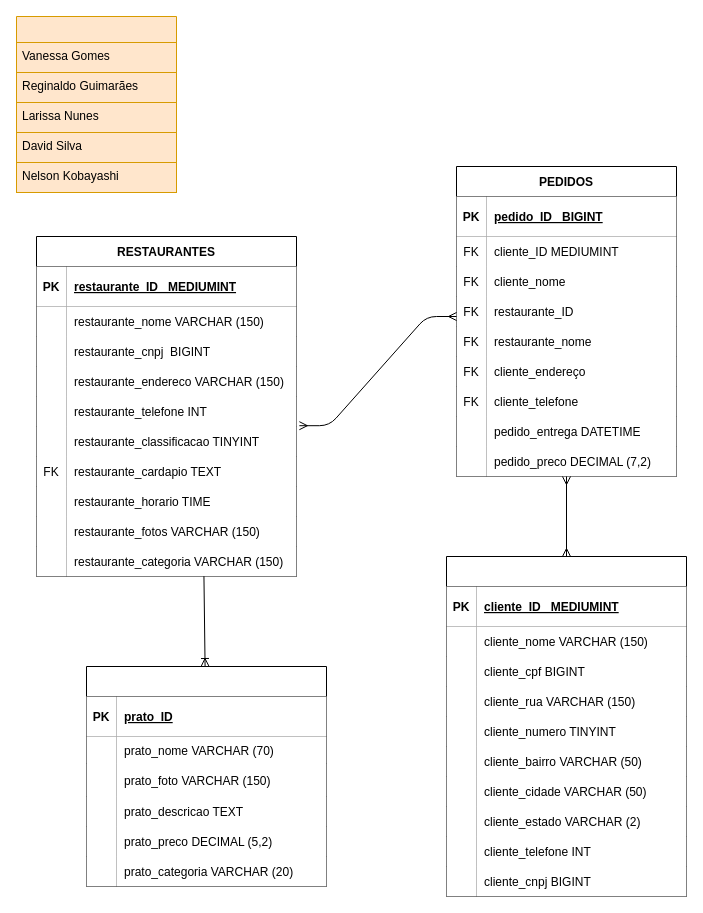
This 703x913 diagram has some shape labels left out. Each missing label, with the box of its shape:
CLIENTES: (446, 556, 686, 896)
OS MELHORES: (16, 16, 176, 192)
PRATOS: (86, 666, 326, 886)
